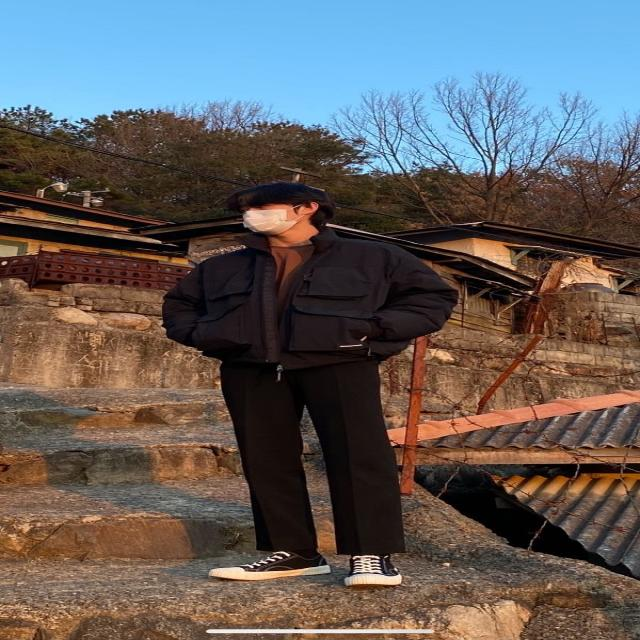padding: (164, 235, 459, 369)
slacks: (214, 360, 404, 556)
